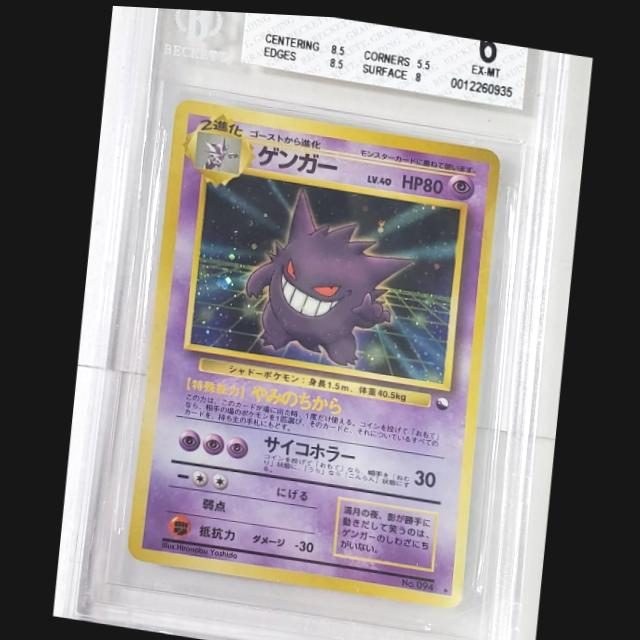bgs_label: (238, 10, 529, 104)
bgs_slab: (62, 5, 571, 640)
card: (125, 94, 501, 605)
